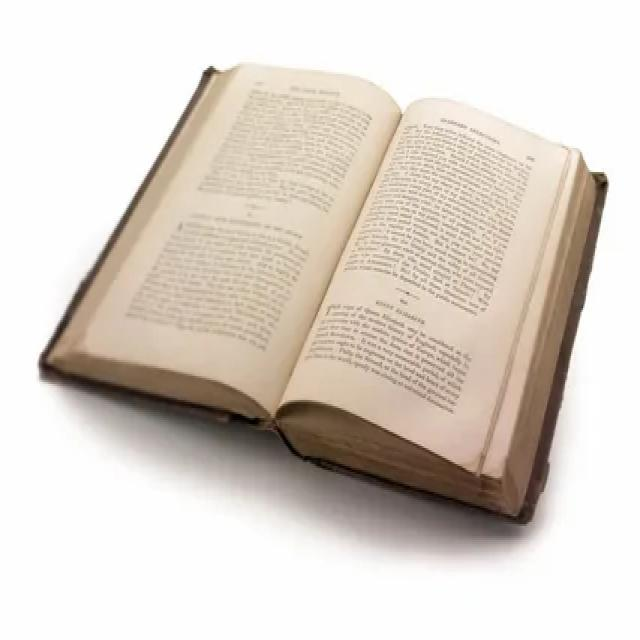book: (33, 40, 623, 533)
